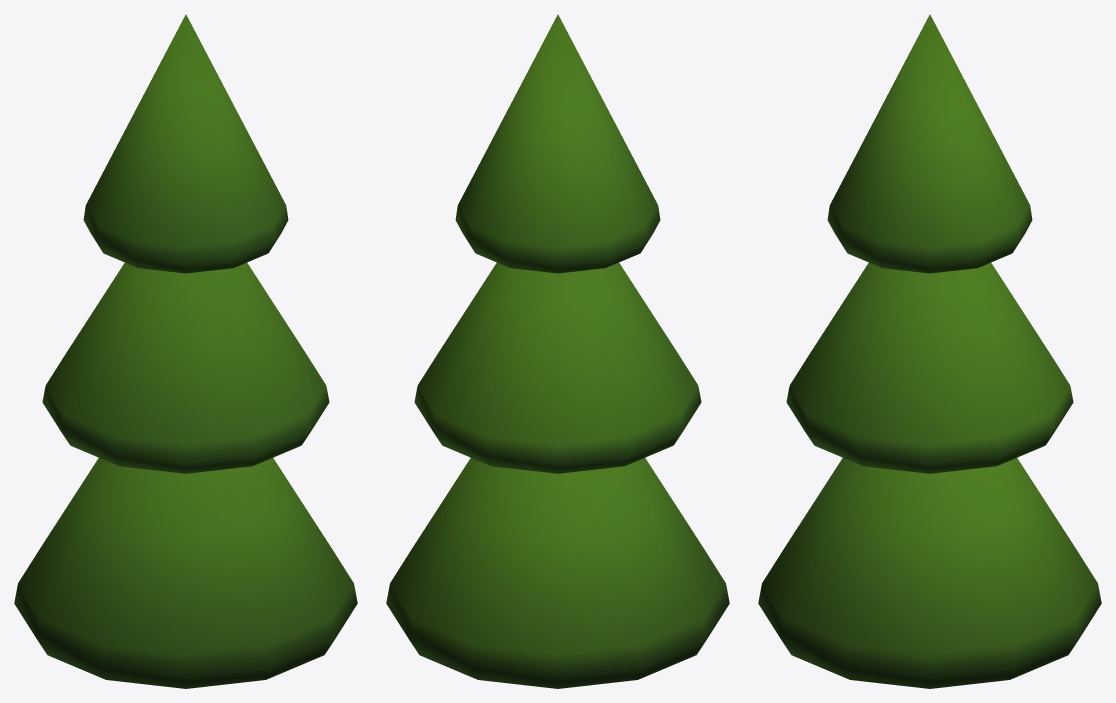
Rendered from Tree_Model.fbx.
3 renders of one model, left to right at view 1: azimuth 30°, elevation 25°; view 2: azimuth 150°, elevation 25°; view 3: azimuth 270°, elevation 25°, orthographic.
Parts seen in each view (by area): view 1: Tree; view 2: Tree; view 3: Tree.
Part boxes in pixels (<box>): Tree: <box>14,14,357,688</box>; Tree: <box>386,14,729,688</box>; Tree: <box>758,14,1101,688</box>.
Size of the model in its own units: 2.52 by 4.98 by 2.52.
Materials: 1 (1 with a texture image).
